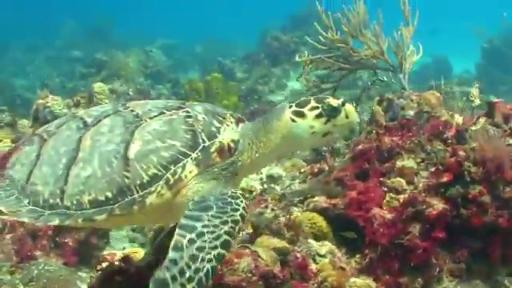Fish: (0, 97, 359, 287)
